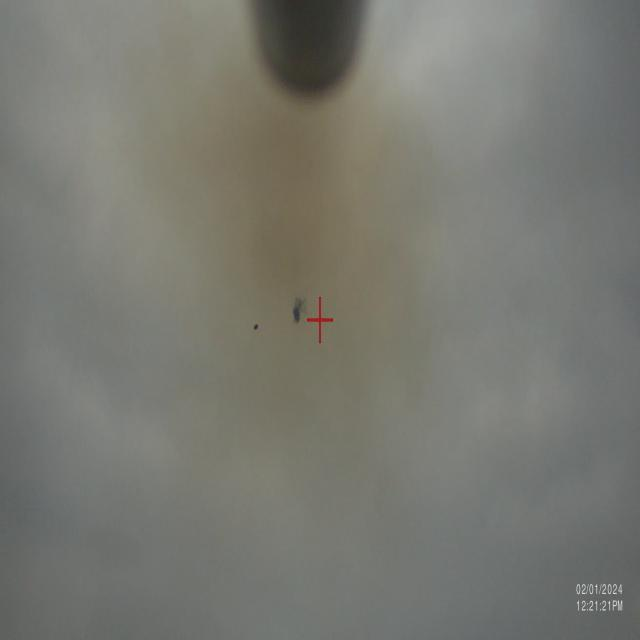entire: (247, 306, 262, 334)
